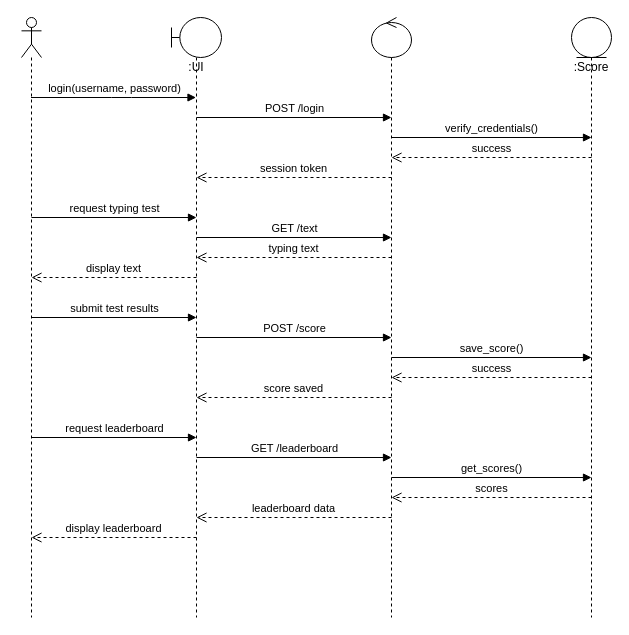
This 629x635 diagram has some shape labels left out. The shapes that lost their labels are listed below. From the top down, each one's box as (x1, y1, x2, y2) in pixels, then its label:
(20, 16, 42, 618): :User
(370, 16, 412, 618): :TypeSpeedController
